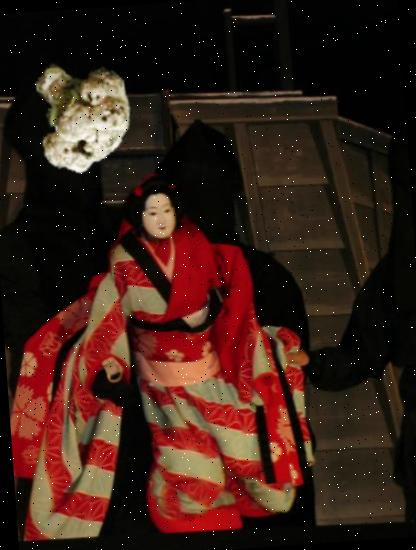Cauliflower: (15, 52, 138, 176)
